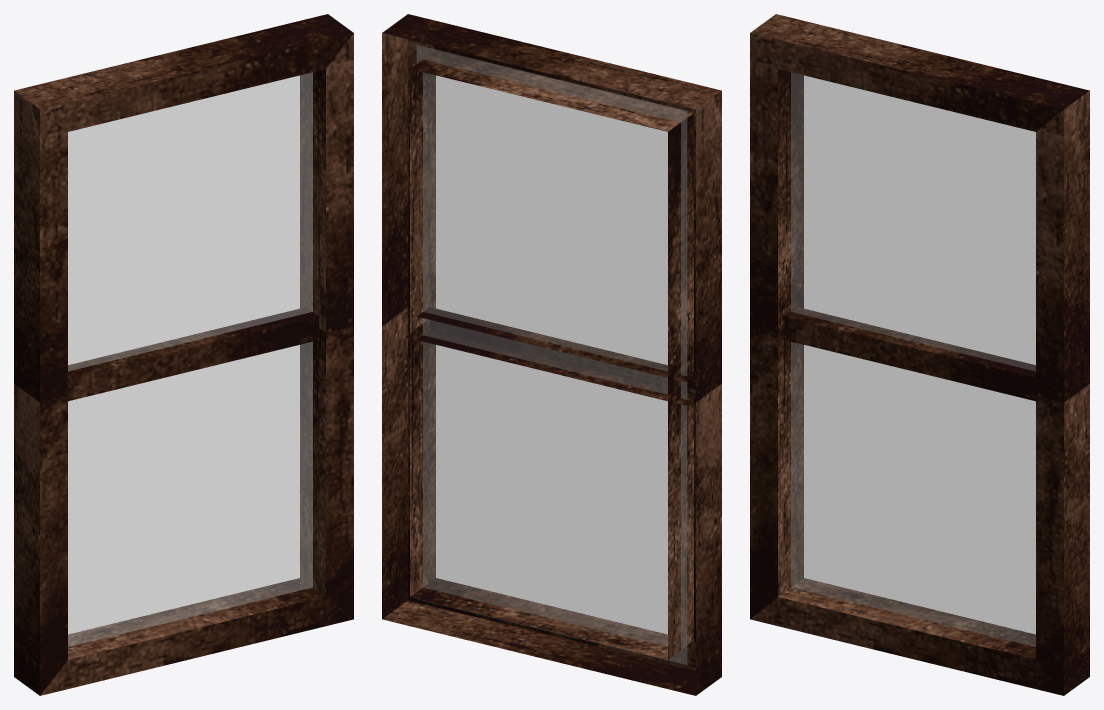
The model's file is Ventana.fbx.
The picture shows the model from 3 angles, left to right: view 1: azimuth 30°, elevation 25°; view 2: azimuth 150°, elevation 25°; view 3: azimuth 330°, elevation 25°; orthographic projection.
Visible parts, largest first — view 1: Ventana; view 2: Ventana; view 3: Ventana.
Boxes of the visible parts, bbox=[...] form: Ventana: bbox=[14, 14, 353, 695]; Ventana: bbox=[382, 14, 721, 695]; Ventana: bbox=[750, 14, 1089, 695].
Bounding box in the file's own units: 0.56 × 1 × 0.08.
